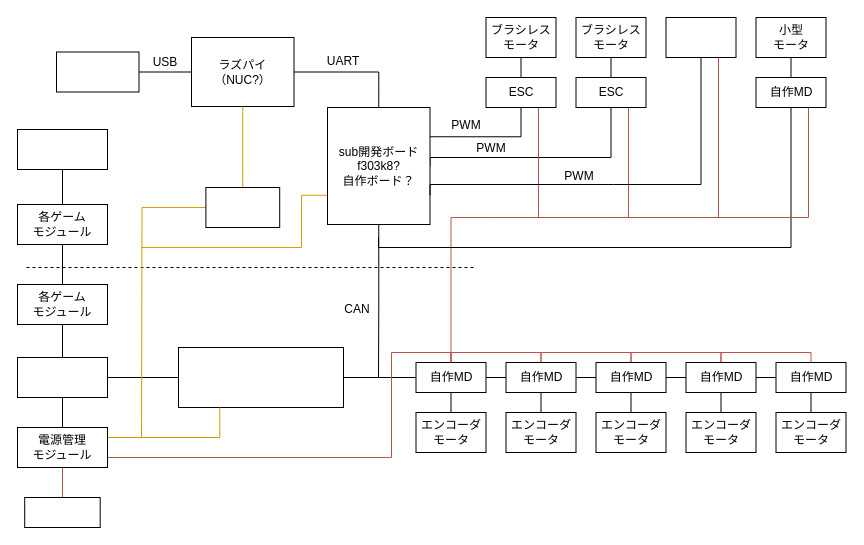
The diagram is 864 pixels wide and 545 high, and some of its shapes have lost their labels. The box of each missing label's shape, as (x1, y1, x2, y2) in pixels:
DCDC: (205, 186, 280, 228)
main開発ボード 自作ボード（ジャイロ搭載）: (178, 346, 344, 408)
カメラ モジュール: (16, 128, 108, 170)
サーボ モータ: (665, 16, 736, 58)
バッテリー: (24, 496, 100, 528)
情報取得 モジュール: (16, 356, 108, 398)
画像認識 カメラ: (56, 51, 139, 92)
